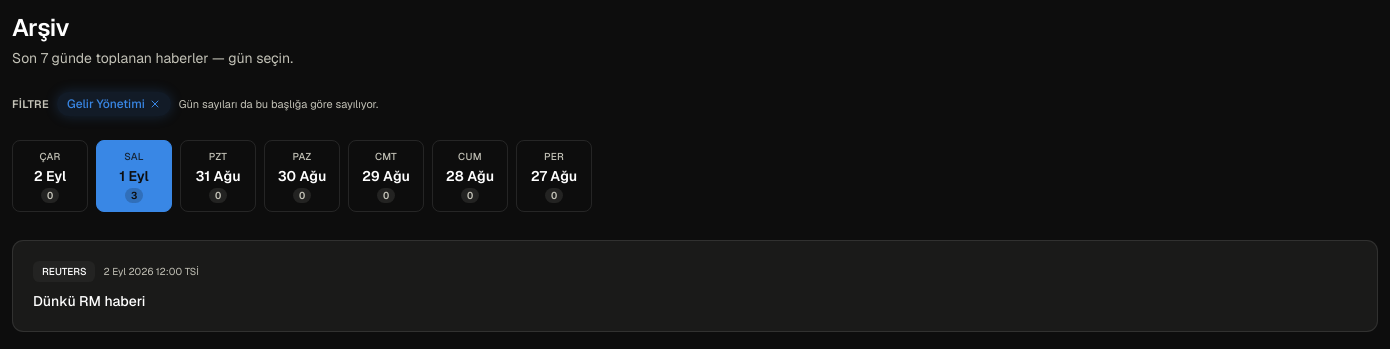
Scenario: ArchiveClient › jumps off a pinned day that the newly cleared beat left empty
Expected: the text "Dünkü RM haberi" is shown, top-left (33, 292), bottom-right (145, 311)
Click the button with aria-label "Gelir Yönetimi filtresini kaldır" at [114, 104], box top-left (57, 92), bottom-right (171, 116)
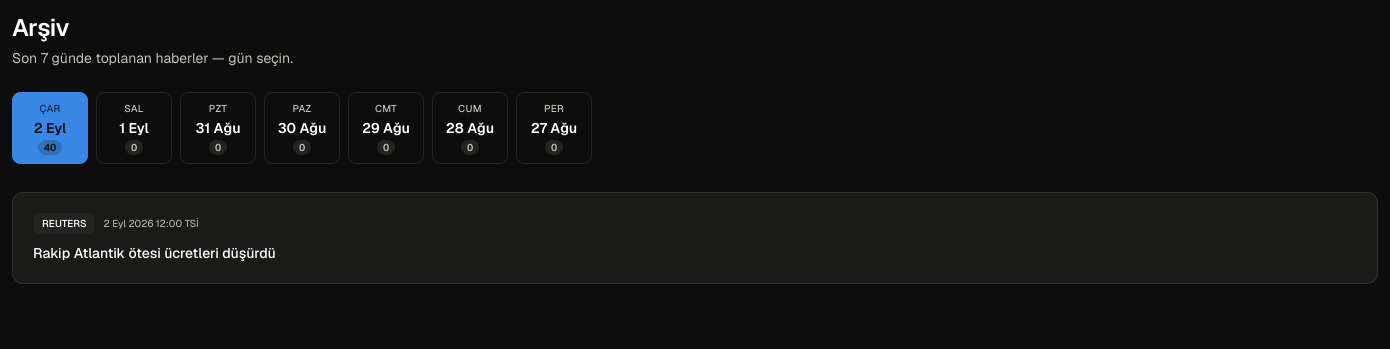
Expected: the text "Rakip Atlantik ötesi ücretleri düşürdü" is shown, top-left (33, 244), bottom-right (276, 263)
